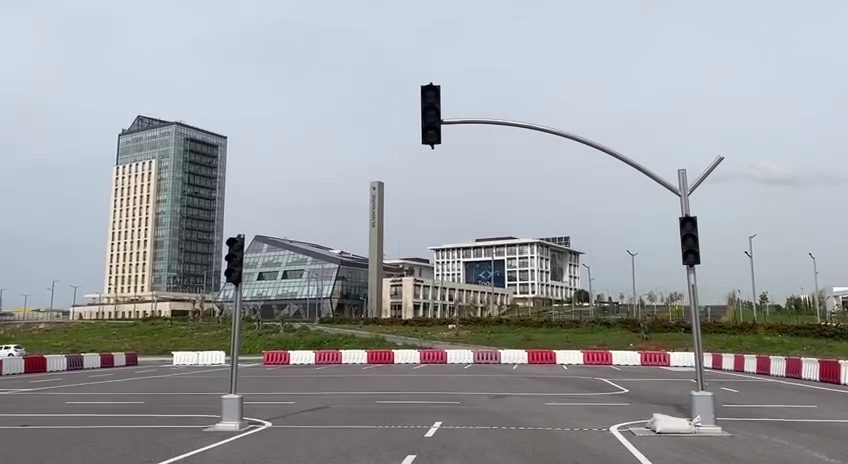trafficLight: (415, 78, 445, 151), (675, 211, 705, 270), (221, 230, 247, 286)
